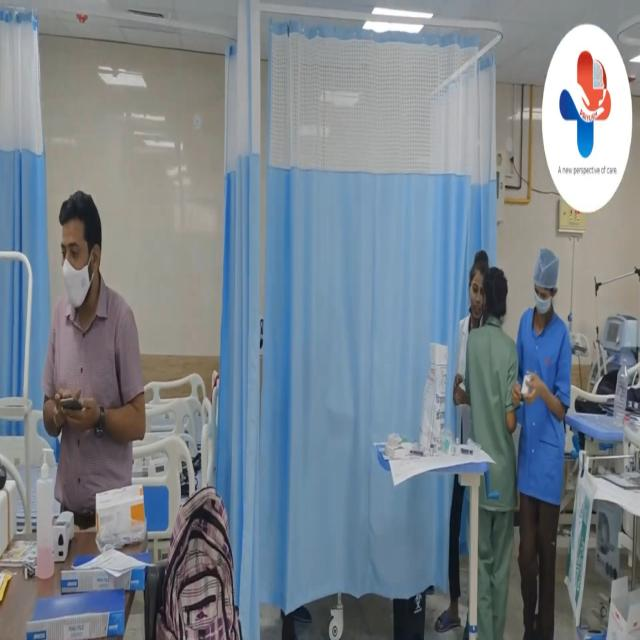Doctor: (41, 182, 162, 481)
Nurse: (479, 266, 521, 640), (528, 247, 566, 640), (462, 216, 498, 465)
